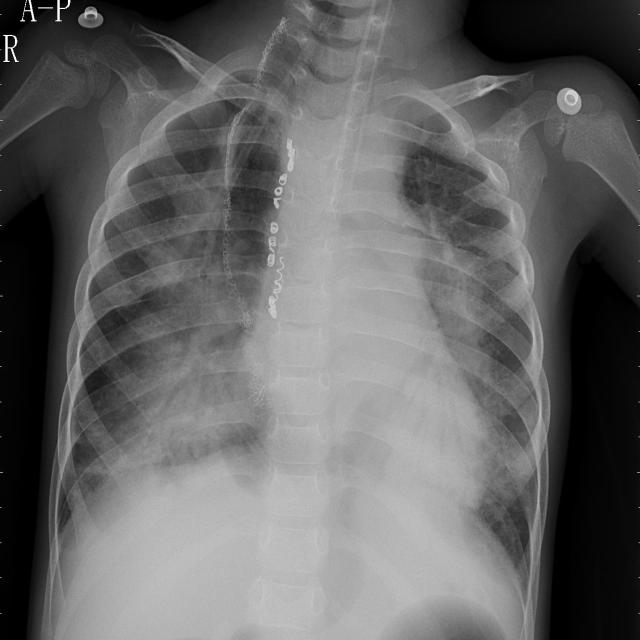high-pneumonia: (103, 298, 265, 496), (419, 213, 501, 418), (147, 174, 236, 326), (472, 388, 536, 526), (223, 53, 305, 152), (388, 95, 465, 174)
